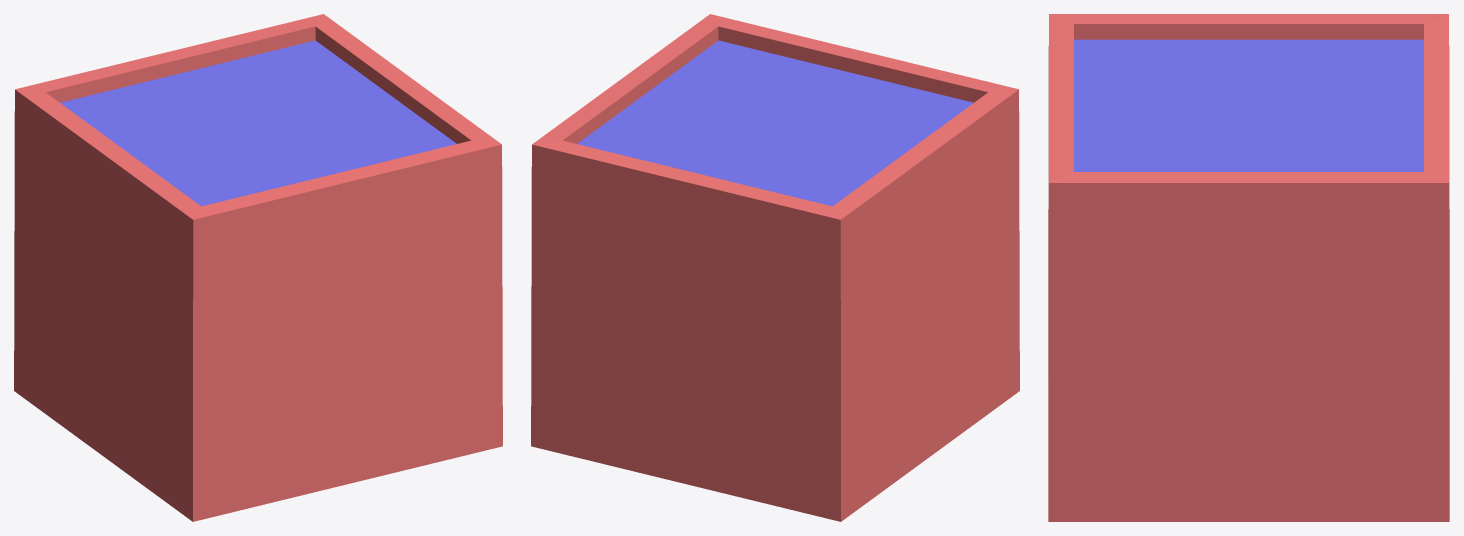
Rendered from SM_TreePlanterA01.fbx.
The picture shows the model from 3 angles, left to right: view 1: azimuth 30°, elevation 25°; view 2: azimuth 150°, elevation 25°; view 3: azimuth 270°, elevation 25°; orthographic projection. The views are drawn at different scales.
Visible parts, largest first — view 1: SM_TreePlanterA01; view 2: SM_TreePlanterA01; view 3: SM_TreePlanterA01.
Part boxes in pixels (x1=…): SM_TreePlanterA01: x1=14, y1=14, x2=502, y2=521; SM_TreePlanterA01: x1=531, y1=14, x2=1019, y2=521; SM_TreePlanterA01: x1=1048, y1=14, x2=1449, y2=521.
Bounding box in the file's own units: 0.6975 × 0.65 × 0.6975.
